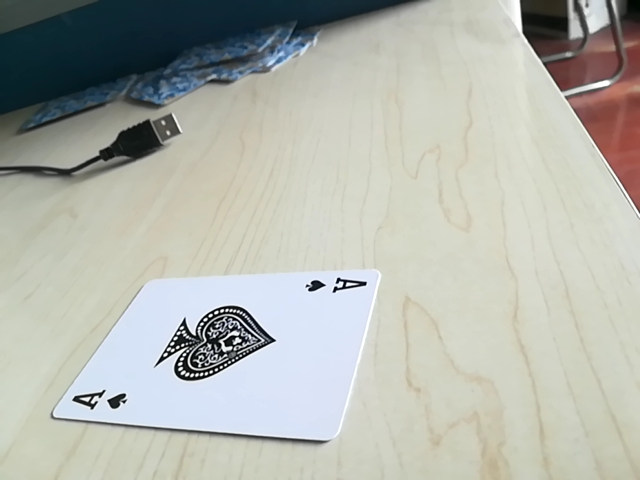ht a: (56, 385, 137, 419), (300, 271, 368, 300)
